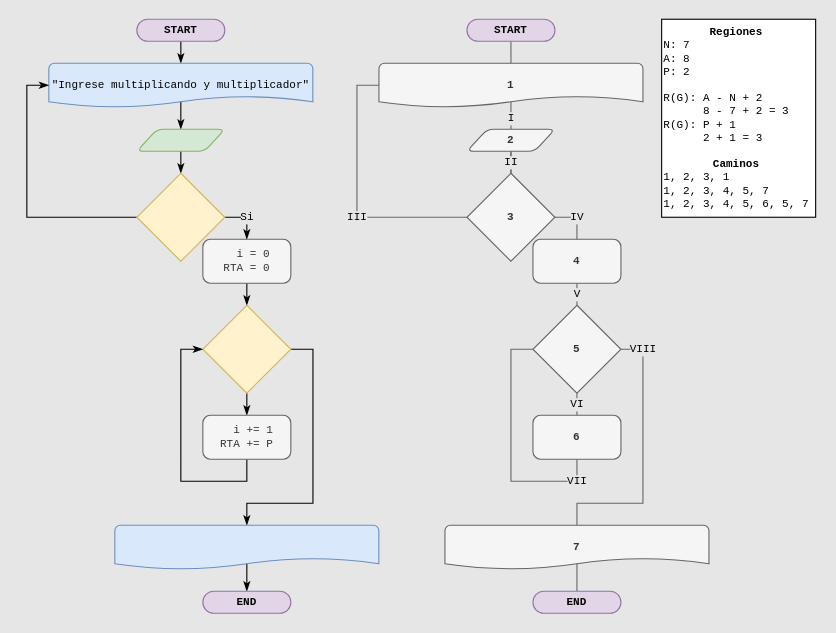
Image size: 836x633. Some labels were removed from this diagram. The centre of each missing label's shape, as x and y in pixels:
"P * Q = ", RTA: the point at 246,546
for i in range Q: the point at 246,348
P > 0 and Q > 0: the point at 180,216
P, Q: the point at 180,139
